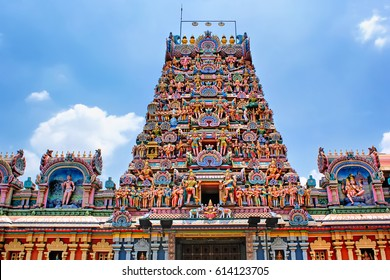Temple: (121, 23, 313, 209)
